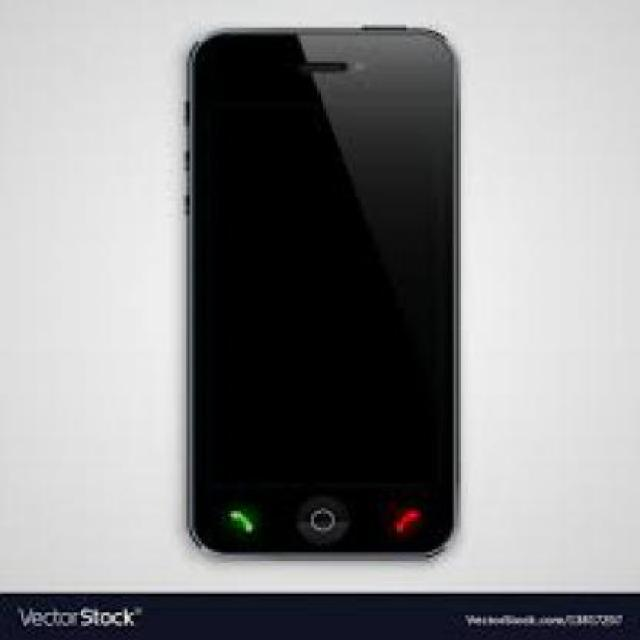phone: (187, 25, 459, 560)
